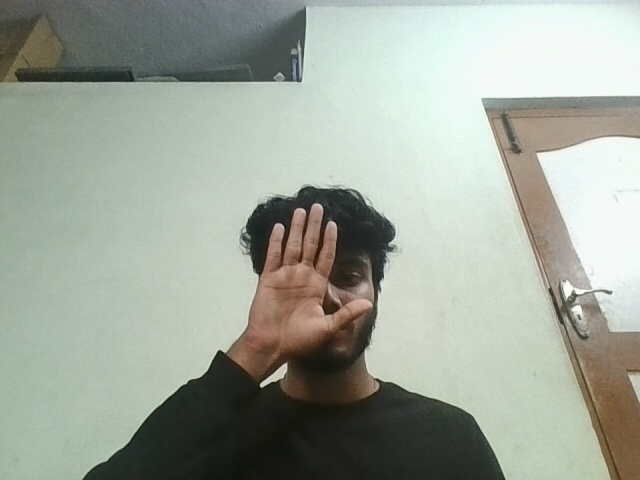Hello: (239, 199, 387, 358)
